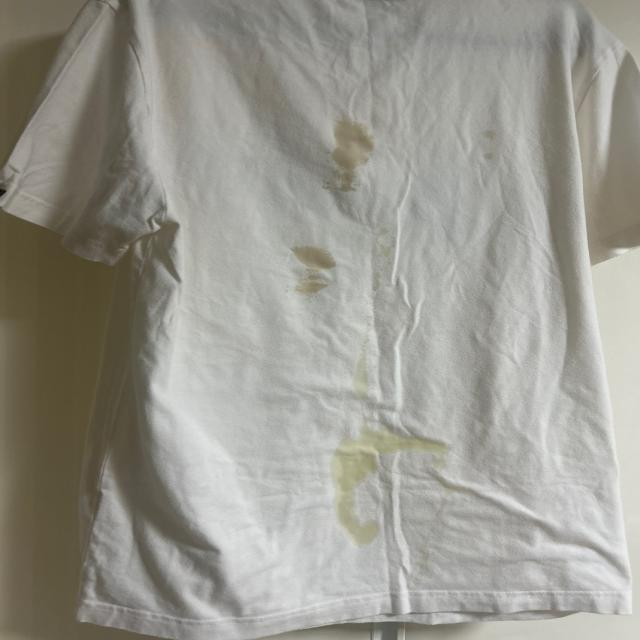stain: (328, 452, 388, 546), (348, 425, 450, 465), (322, 118, 377, 192), (293, 241, 337, 292), (352, 339, 383, 401), (472, 122, 512, 169), (373, 235, 401, 256)
